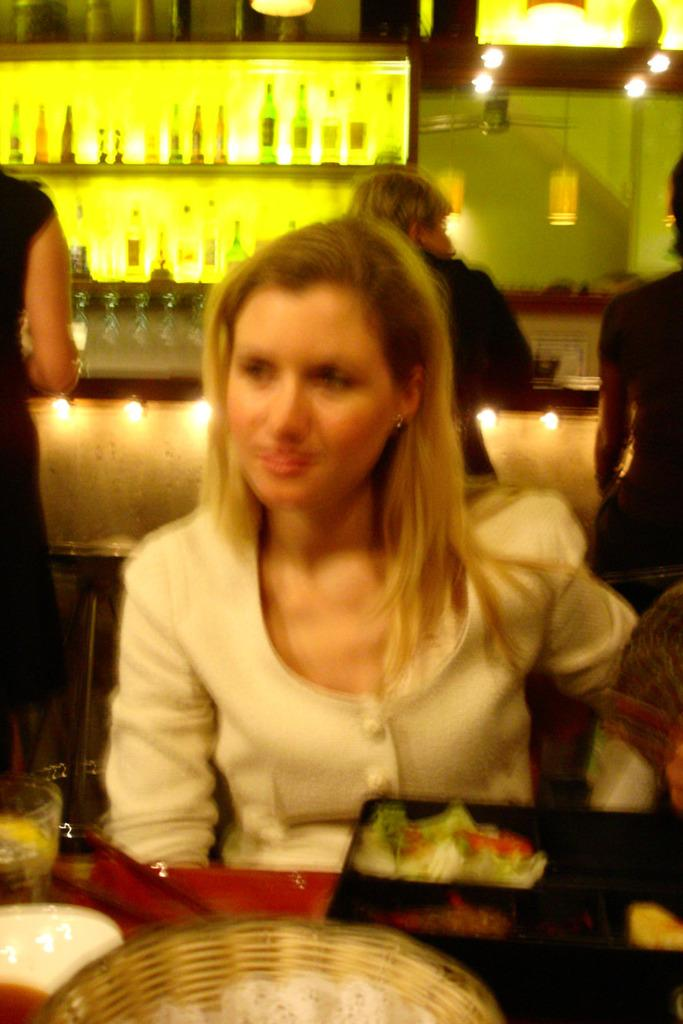no_helmet: (228, 204, 431, 372)
none: (174, 417, 600, 966)
